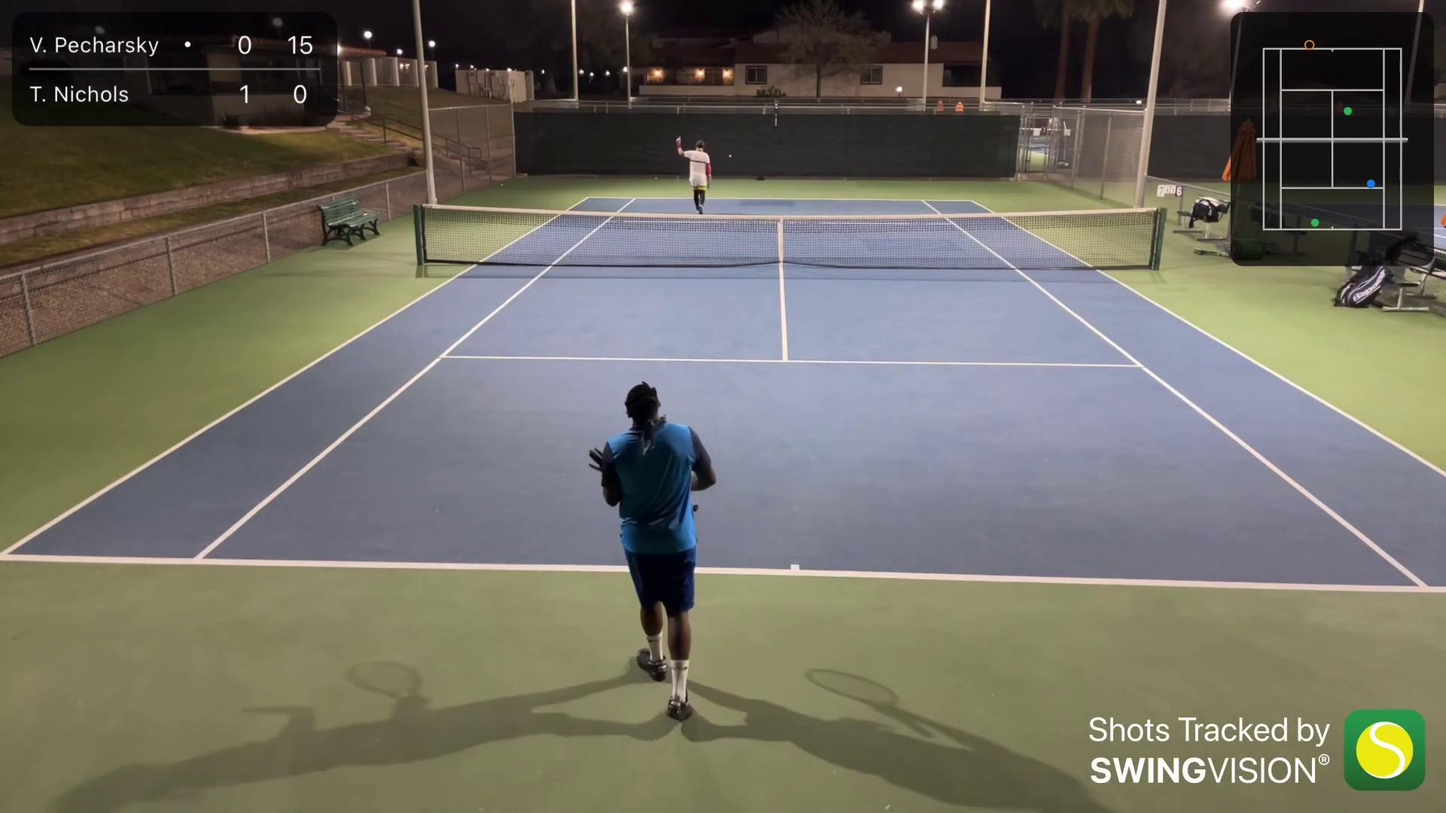ball: (651, 174, 659, 181), (727, 153, 734, 160), (498, 182, 506, 187)
